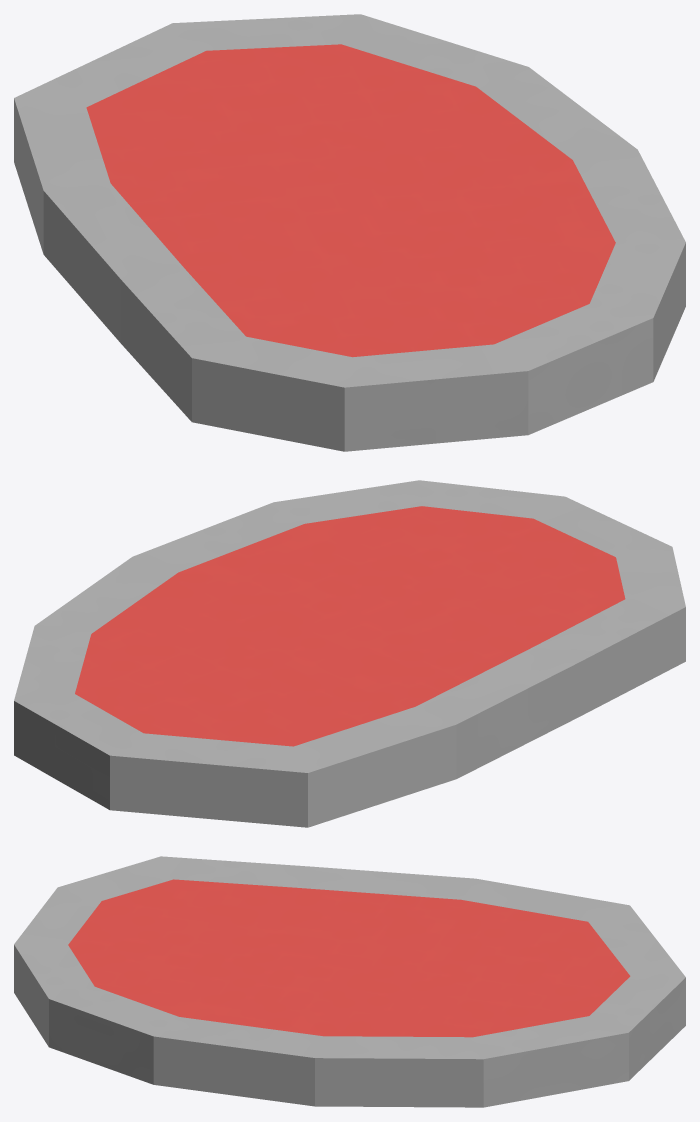
Rendered from Meat.fbx.
3 renders of one model, top to bottom at view 1: azimuth 30°, elevation 25°; view 2: azimuth 150°, elevation 25°; view 3: azimuth 270°, elevation 25°, orthographic. The views are drawn at different scales.
Visible parts, largest first — view 1: Meat; view 2: Meat; view 3: Meat.
Boxes of the visible parts, box(x1,y1,x2,y2) form: Meat: box(14, 14, 685, 451); Meat: box(14, 480, 685, 827); Meat: box(14, 856, 685, 1107).
Size of the model in its own units: 0.2917 by 0.0325 by 0.4085.
